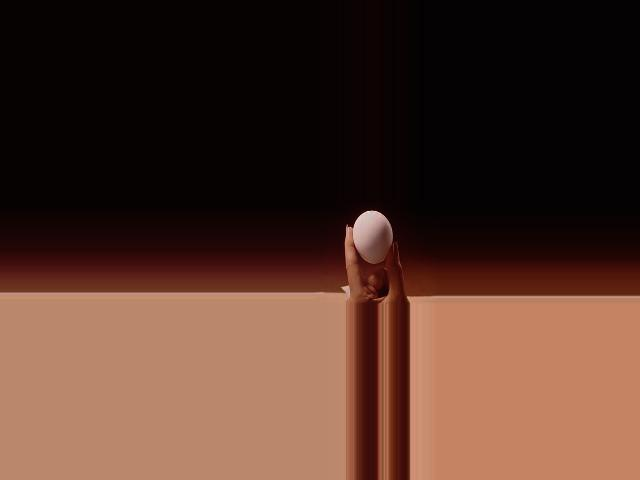egg: (353, 211, 393, 265)
